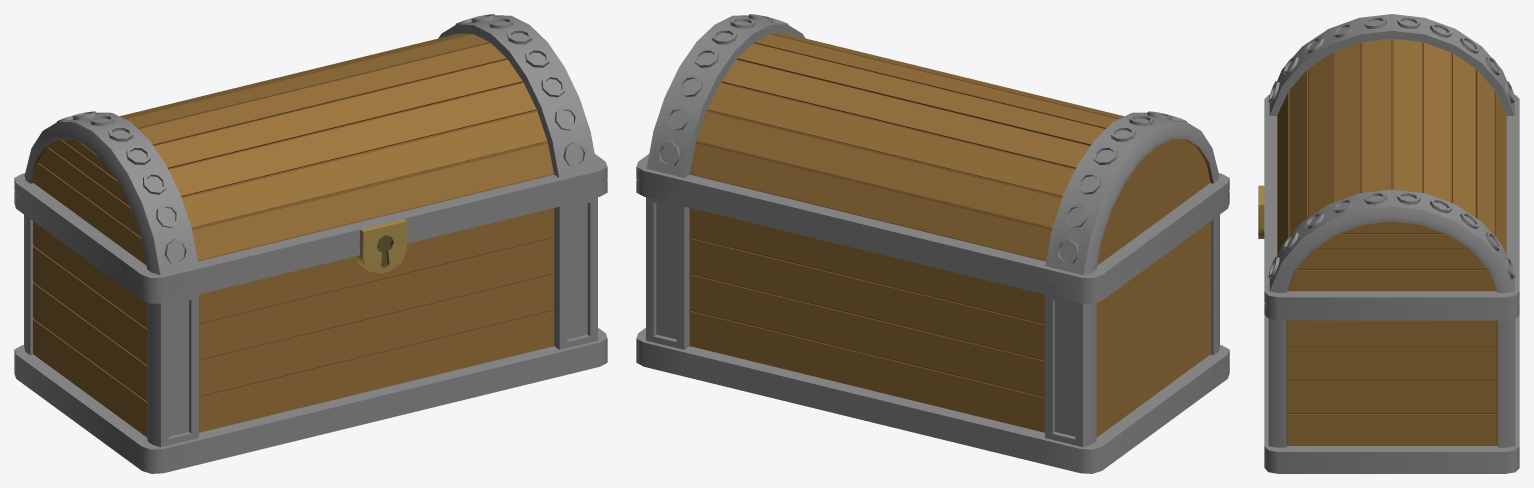
Rendered from Simple chest.fbx.
3 renders of one model, left to right at view 1: azimuth 30°, elevation 25°; view 2: azimuth 150°, elevation 25°; view 3: azimuth 270°, elevation 25°, orthographic. The views are drawn at different scales.
Parts seen in each view (by area): view 1: chest, cover, lock; view 2: chest, cover; view 3: cover, chest, lock.
Boxes of the visible parts, x1=… form: chest: x1=14, y1=179, x2=607, y2=473; cover: x1=14, y1=14, x2=607, y2=291; lock: x1=356, y1=219, x2=406, y2=273; chest: x1=636, y1=179, x2=1229, y2=473; cover: x1=636, y1=14, x2=1229, y2=291; cover: x1=1264, y1=14, x2=1519, y2=309; chest: x1=1264, y1=302, x2=1519, y2=473; lock: x1=1258, y1=185, x2=1264, y2=238.
Size of the model in its own units: 425 by 256 by 230.
